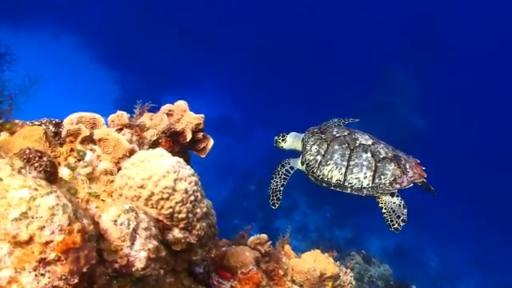Fish: (269, 118, 435, 231)
